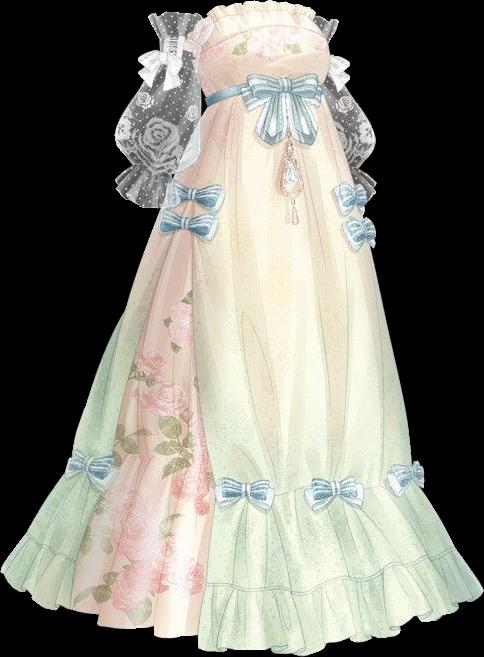Bodice: (196, 0, 330, 104)
Hemline: (0, 192, 483, 656), (63, 603, 195, 638)
Neckline: (185, 0, 321, 41), (203, 22, 319, 54)
Skirt: (1, 87, 483, 655)
Sleeve: (114, 11, 209, 208)
Sleeveline: (159, 35, 210, 50), (131, 158, 177, 174), (199, 17, 210, 63)
Waistline: (203, 83, 324, 105)
